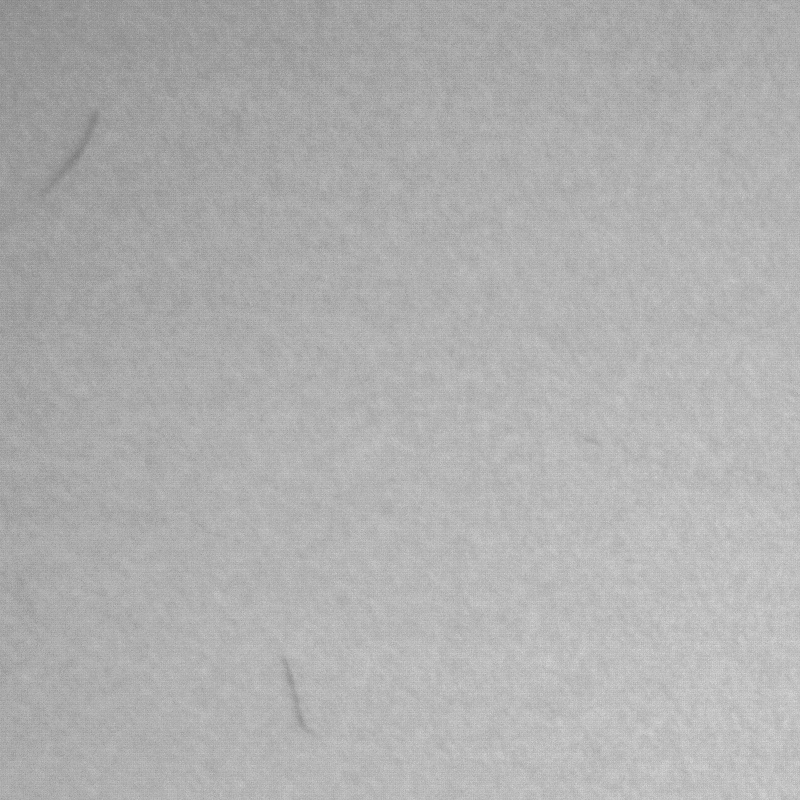defect: (41, 115, 97, 193), (288, 655, 321, 742)
